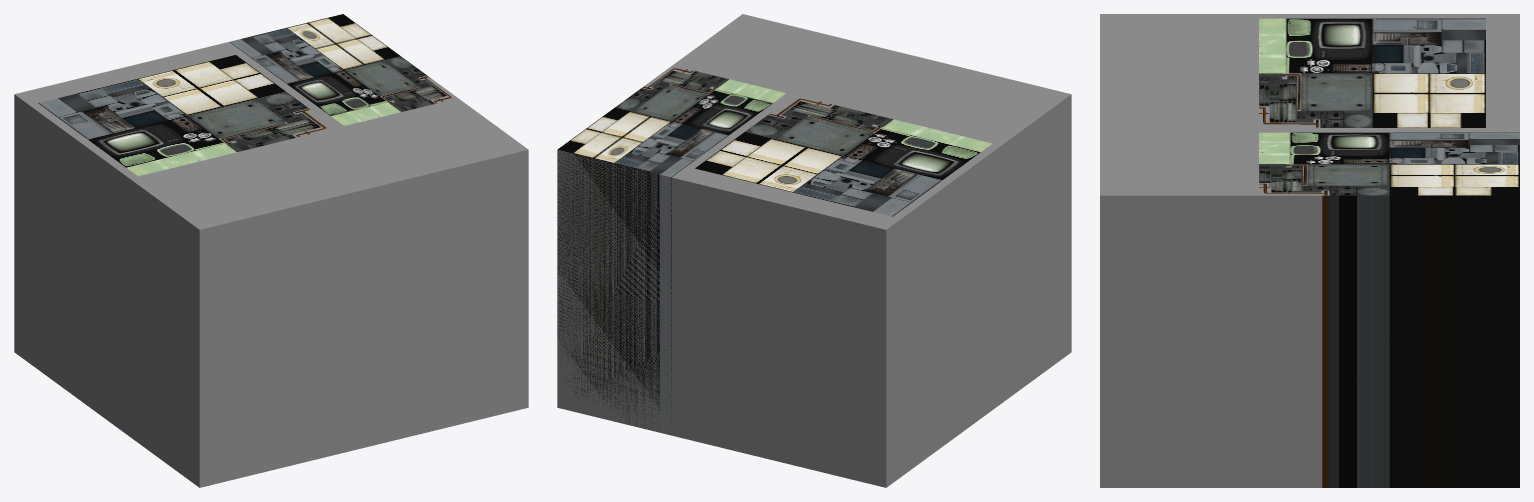
Rendered from computer.FBX.
3 views of the same model, side by side, from view 1: azimuth 30°, elevation 25°; view 2: azimuth 150°, elevation 25°; view 3: azimuth 270°, elevation 25° (orthographic). The views are drawn at different scales.
Visible parts, largest first — view 1: bounds, colbox-2, colbox-1; view 2: bounds, colbox-1, colbox-2; view 3: bounds, colbox-1, colbox-2.
Boxes of the visible parts, x1=… form: bounds: x1=14, y1=42, x2=528, y2=487; colbox-2: x1=38, y1=55, x2=326, y2=176; colbox-1: x1=229, y1=14, x2=451, y2=125; bounds: x1=557, y1=14, x2=1071, y2=487; colbox-1: x1=557, y1=68, x2=786, y2=430; colbox-2: x1=695, y1=98, x2=992, y2=216; bounds: x1=1100, y1=14, x2=1519, y2=487; colbox-1: x1=1259, y1=132, x2=1519, y2=487; colbox-2: x1=1259, y1=18, x2=1485, y2=127.
Size of the model in its own units: 103 by 77 by 100.
